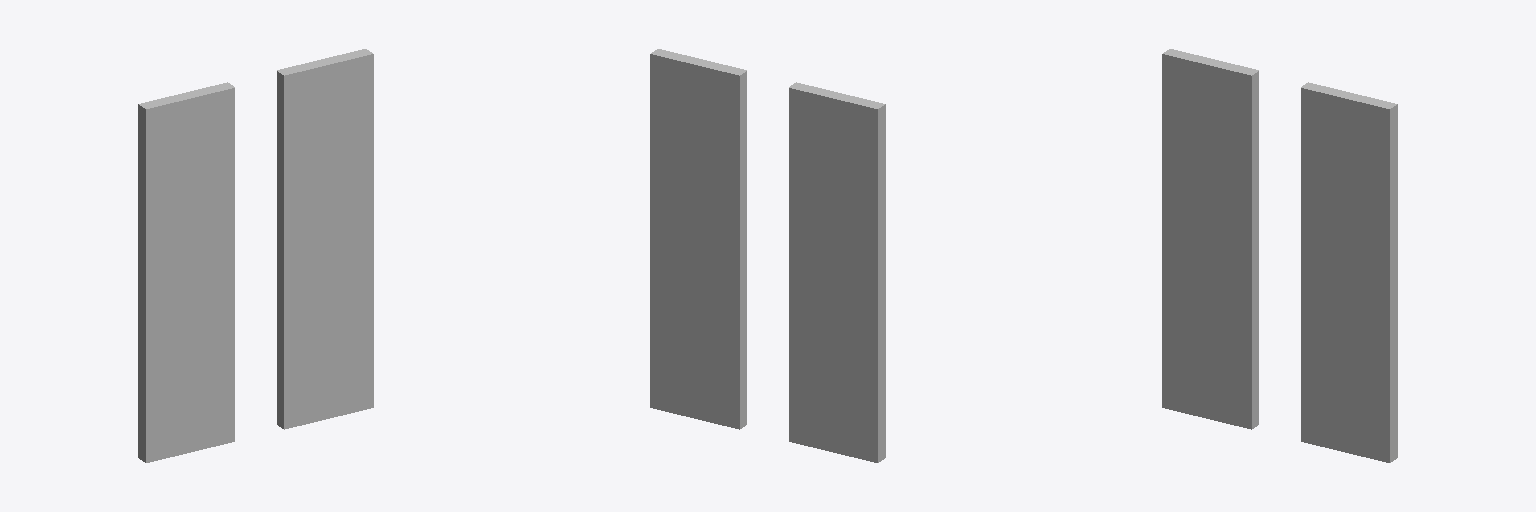
The model's file is platform.obj.
The picture shows the model from 3 angles: view 1: azimuth 30°, elevation 25°; view 2: azimuth 150°, elevation 25°; view 3: azimuth 330°, elevation 25°; orthographic projection.
Parts seen in each view (by area): view 1: Cube.003_Cube.014, Cube.004_Cube.016; view 2: Cube.003_Cube.014, Cube.004_Cube.016; view 3: Cube.003_Cube.014, Cube.004_Cube.016.
Part boxes in pixels (bbox=[...]): Cube.003_Cube.014: bbox=[138, 82, 234, 462]; Cube.004_Cube.016: bbox=[277, 49, 373, 429]; Cube.003_Cube.014: bbox=[789, 82, 885, 462]; Cube.004_Cube.016: bbox=[650, 49, 746, 429]; Cube.003_Cube.014: bbox=[1162, 49, 1258, 429]; Cube.004_Cube.016: bbox=[1301, 82, 1397, 462].
Bounding box in the file's own units: 8 × 11.88 × 0.4511.